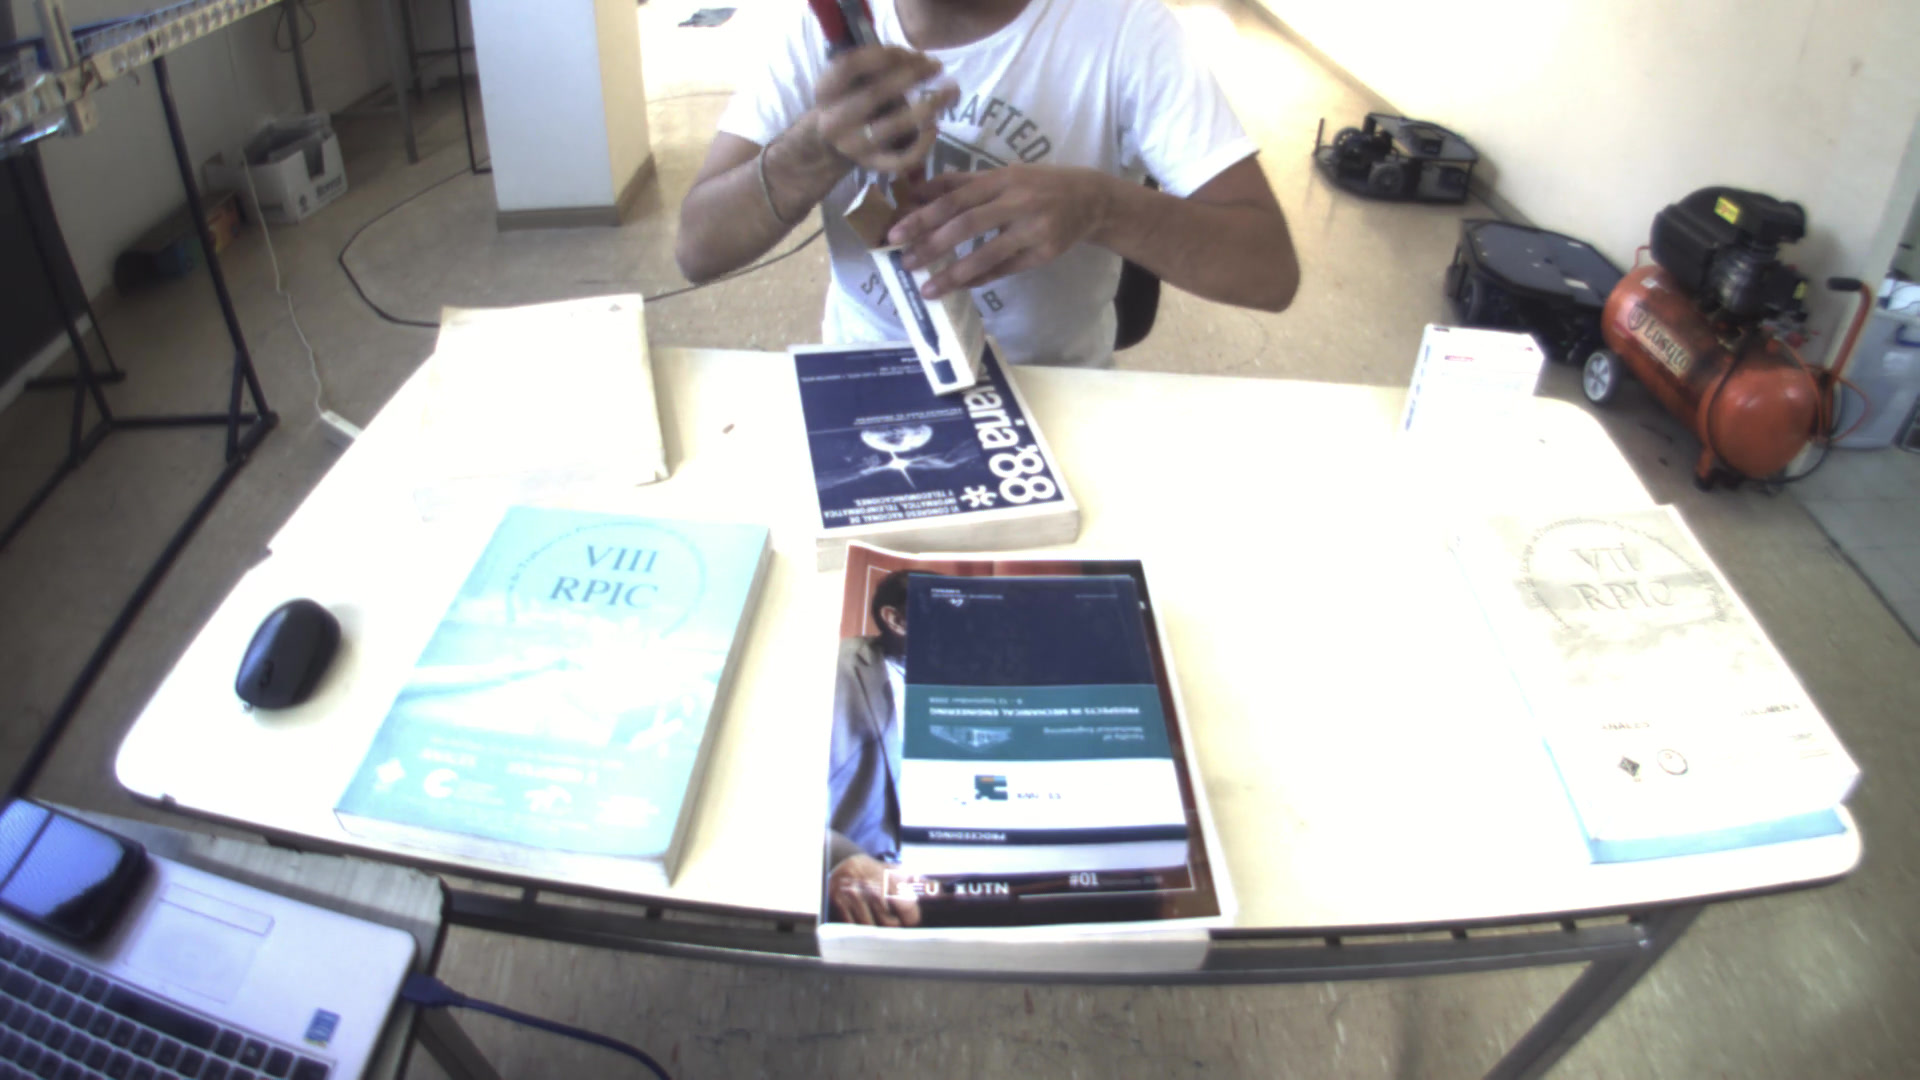hand: (885, 145, 1109, 301), (786, 32, 957, 175)
